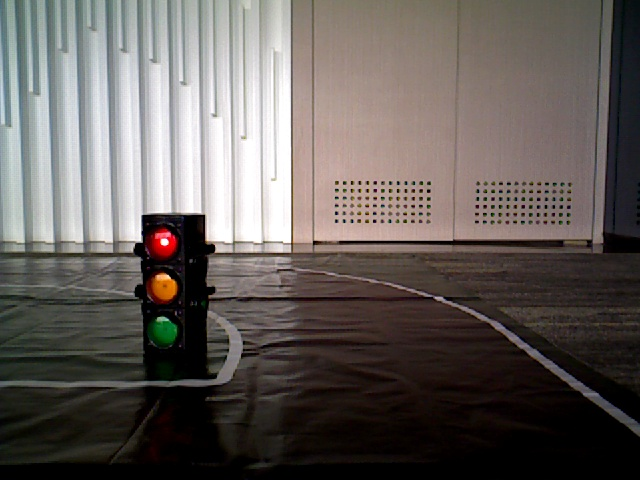red: (144, 221, 192, 348)
